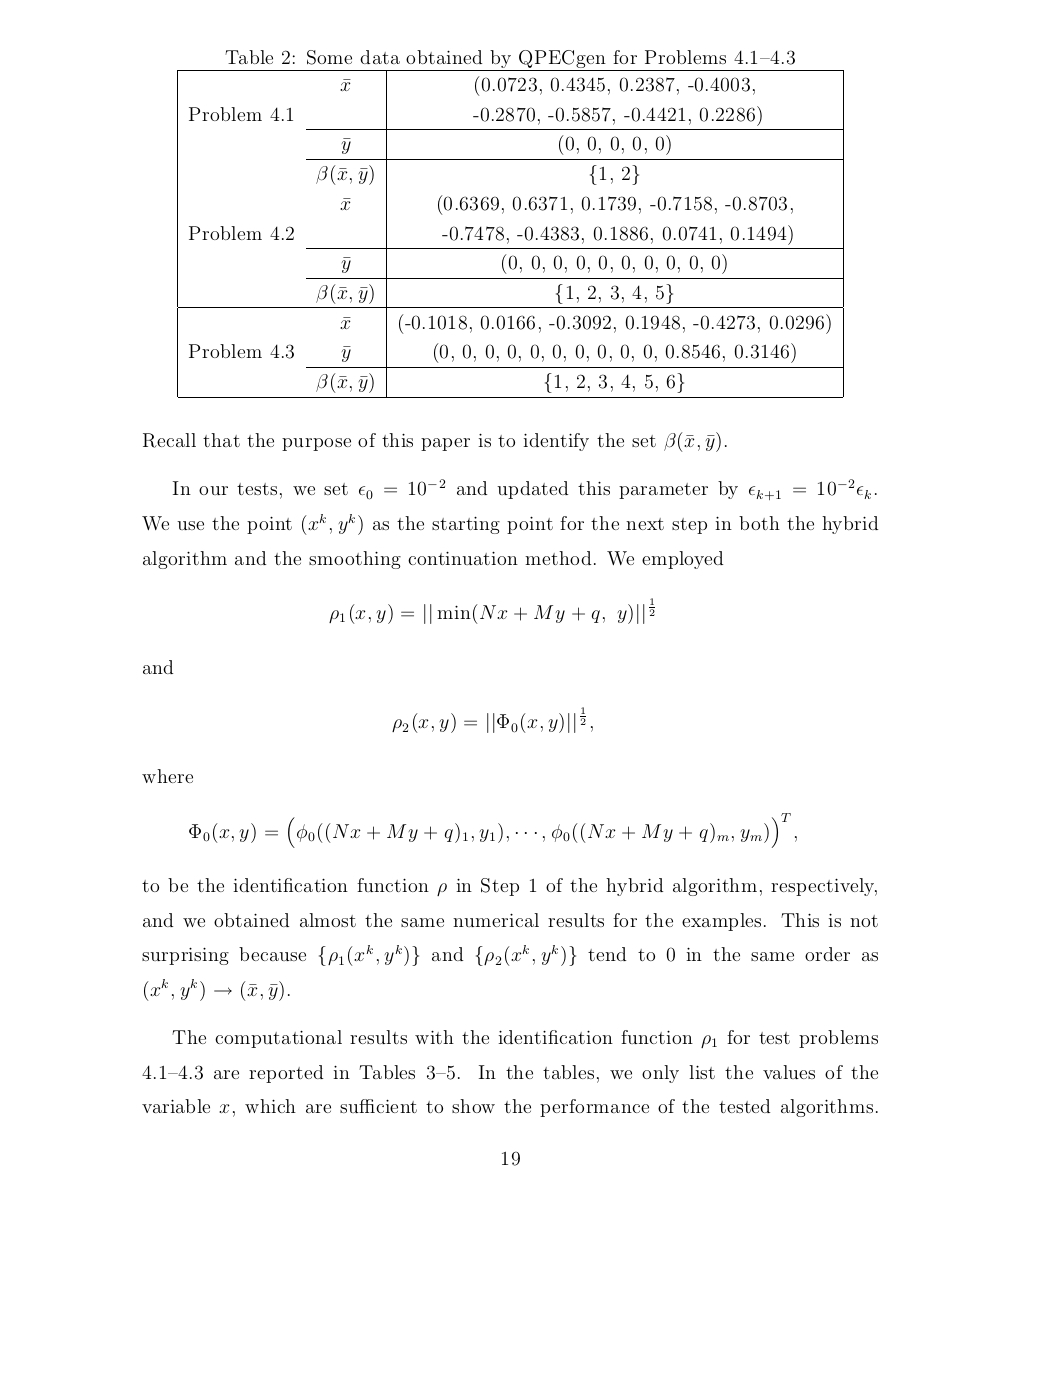Table: (177, 49, 843, 398)
formula: (189, 812, 796, 848), (329, 597, 654, 624), (392, 705, 592, 733)
